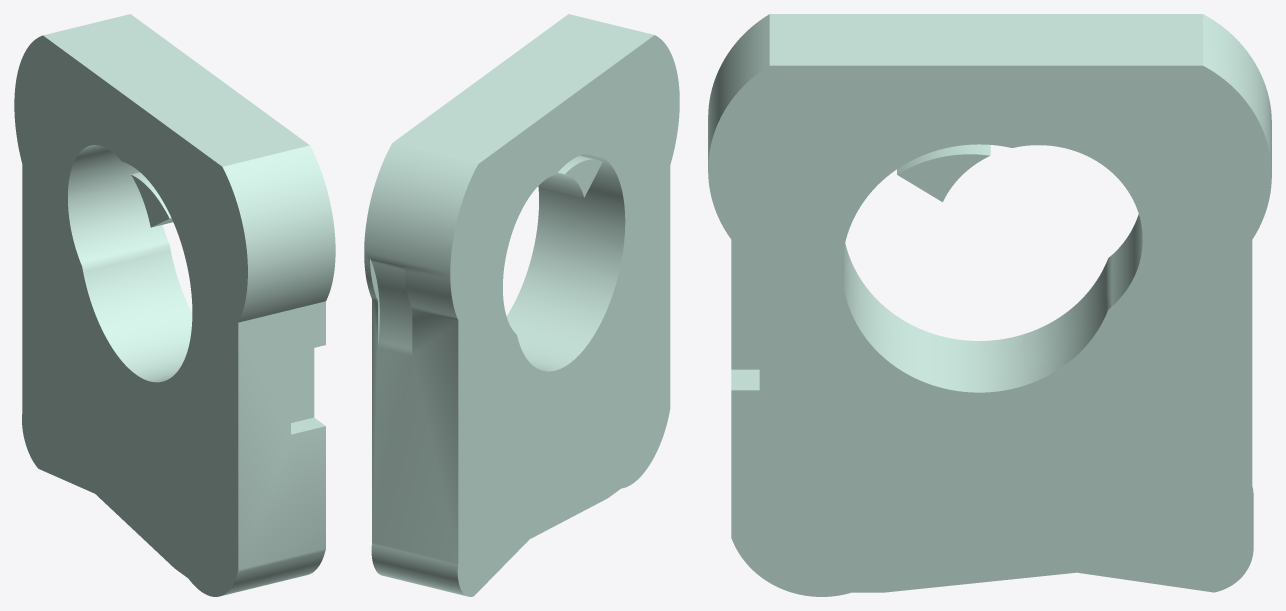
3 views of the same model, side by side, from view 1: azimuth 30°, elevation 25°; view 2: azimuth 150°, elevation 25°; view 3: azimuth 270°, elevation 25° (orthographic). The views are drawn at different scales.
Parts seen in each view (by area): view 1: Renderer Node; view 2: Renderer Node; view 3: Renderer Node.
Part boxes in pixels (x1=…): Renderer Node: x1=14, y1=14, x2=335, y2=596; Renderer Node: x1=364, y1=14, x2=679, y2=596; Renderer Node: x1=708, y1=14, x2=1271, y2=596.
Bounding box in the file's own units: 0.2344 × 1.13 × 1.08.
